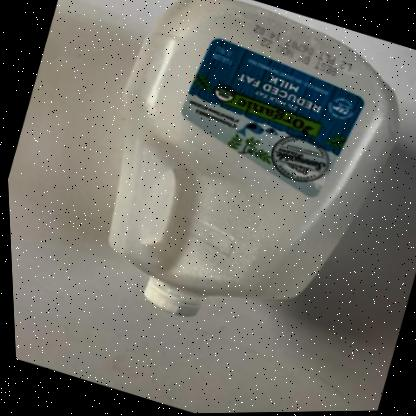Plastic: (105, 0, 397, 316)
